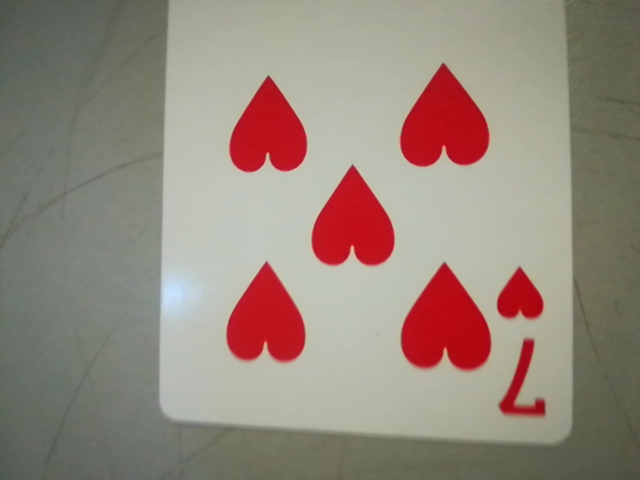hx 7: (487, 252, 568, 434)
